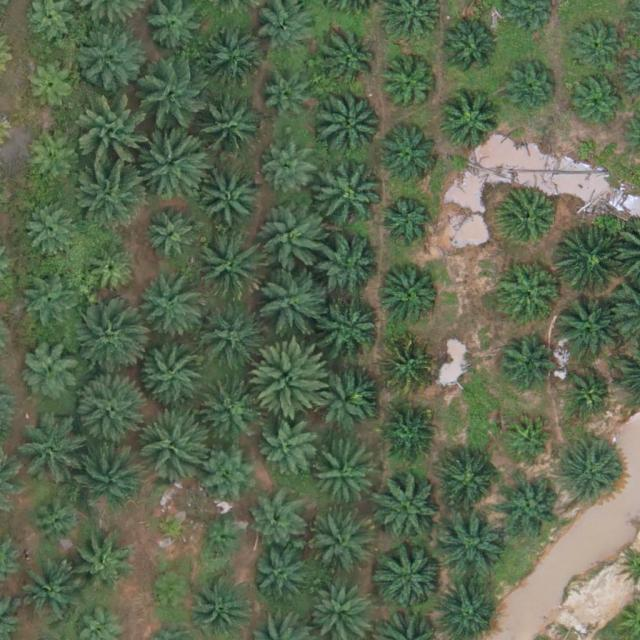Healthy: (254, 341, 332, 420), (435, 507, 506, 578), (196, 302, 267, 373), (259, 206, 330, 277), (374, 472, 444, 543), (376, 542, 447, 612), (255, 265, 325, 336), (194, 232, 264, 303), (137, 410, 207, 481), (74, 439, 144, 510), (554, 229, 625, 299), (317, 88, 387, 159), (314, 159, 384, 230), (193, 96, 263, 167), (141, 62, 212, 132), (138, 127, 208, 198), (78, 160, 148, 231), (82, 101, 152, 172), (134, 275, 204, 345), (138, 337, 208, 407), (72, 307, 142, 377), (74, 375, 144, 445), (74, 22, 144, 92), (312, 364, 375, 427), (439, 92, 502, 155), (200, 168, 263, 231), (194, 575, 257, 638), (555, 297, 617, 360), (499, 261, 562, 323), (380, 261, 442, 324), (319, 239, 381, 302), (322, 298, 384, 361), (313, 446, 375, 509), (310, 516, 372, 579), (199, 378, 261, 441), (200, 441, 262, 504), (70, 534, 132, 597), (16, 564, 78, 627), (20, 338, 83, 400), (16, 422, 78, 485), (498, 189, 560, 252), (439, 19, 501, 82), (321, 29, 383, 92), (201, 29, 263, 92), (560, 444, 622, 506), (501, 477, 563, 539), (378, 127, 440, 189), (498, 334, 553, 389), (442, 456, 497, 511), (250, 496, 305, 551), (83, 244, 138, 299), (29, 495, 84, 550), (20, 275, 75, 330), (569, 19, 624, 74), (384, 61, 439, 116), (379, 194, 434, 249), (146, 209, 201, 264), (23, 57, 78, 112), (26, 134, 81, 189), (381, 406, 435, 461), (261, 421, 315, 476), (252, 550, 306, 605), (503, 62, 557, 117), (572, 73, 626, 128), (262, 78, 316, 133), (265, 143, 319, 198), (25, 202, 79, 257)
Small: (199, 516, 246, 564), (505, 416, 552, 464), (149, 570, 196, 618), (564, 370, 611, 417), (153, 508, 192, 548)
Yellow: (379, 338, 434, 393)
